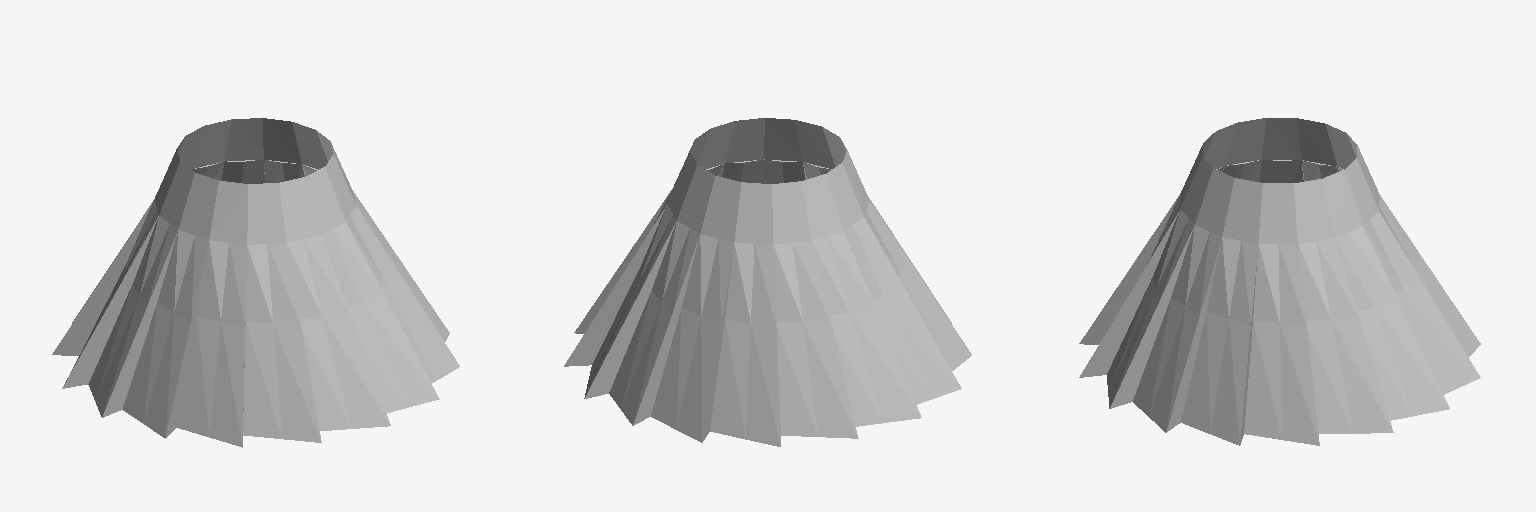
File: skirt5.obj
3 views of the same model, side by side, from view 1: azimuth 30°, elevation 25°; view 2: azimuth 150°, elevation 25°; view 3: azimuth 270°, elevation 25° (orthographic).
Visible parts, largest first — view 1: LSKIRT.001; view 2: LSKIRT.001; view 3: LSKIRT.001.
Part boxes in pixels (x1,y1,x2,y2): LSKIRT.001: (52,118,459,447); LSKIRT.001: (564,118,971,446); LSKIRT.001: (1079,118,1480,445).
Size of the model in its own units: 2.63 by 1.52 by 2.63.